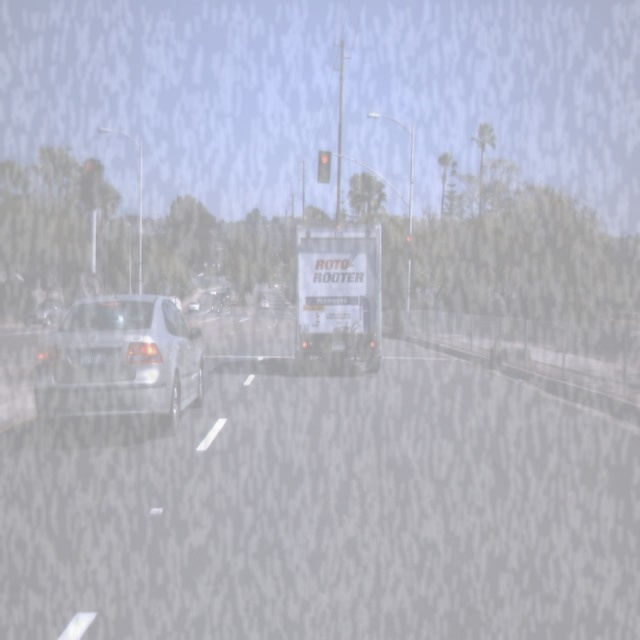stop: (78, 156, 99, 204), (318, 154, 332, 178), (404, 236, 413, 253)
stop traffic light: (78, 156, 99, 204), (318, 154, 332, 178), (404, 236, 413, 253)
